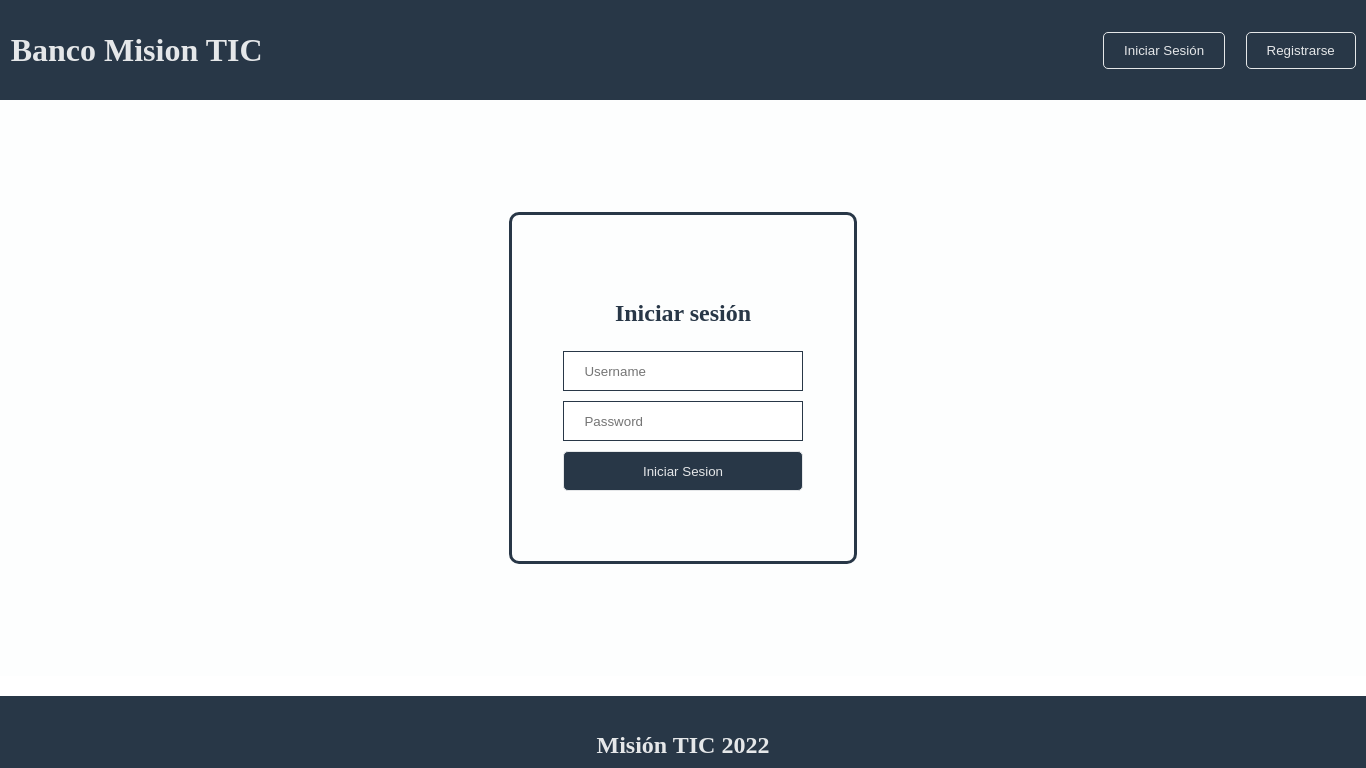
Scenario: App.vue › El botón signUp no funciona correctamente
Click the button "Registrarse" at (1301, 50), box [1246, 32, 1356, 68]
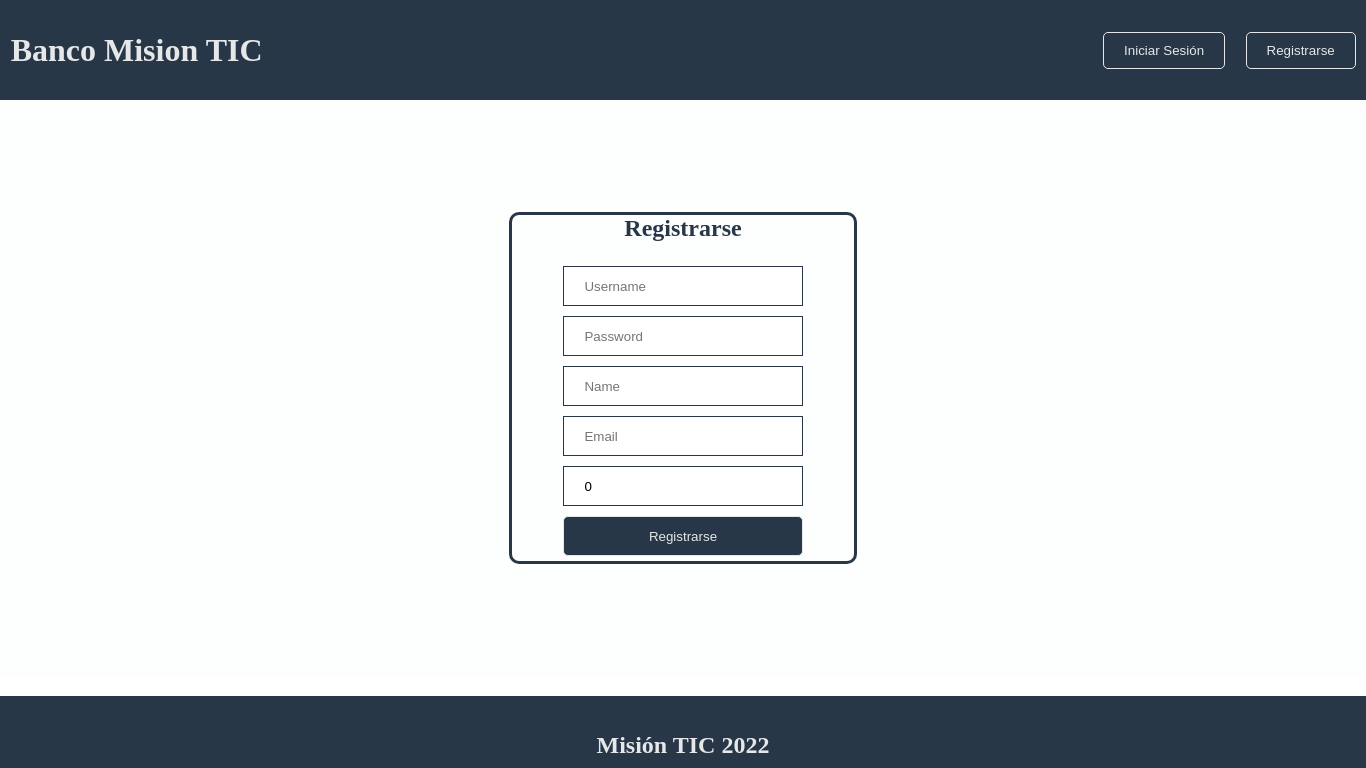
Result: the element showing "Registrarse Registrarse" is shown at [509, 212, 857, 564]
